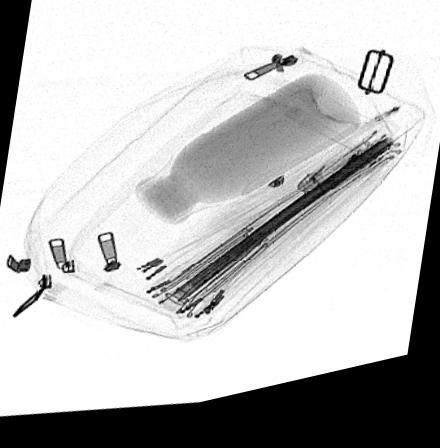Lighter: (297, 137, 399, 209)
